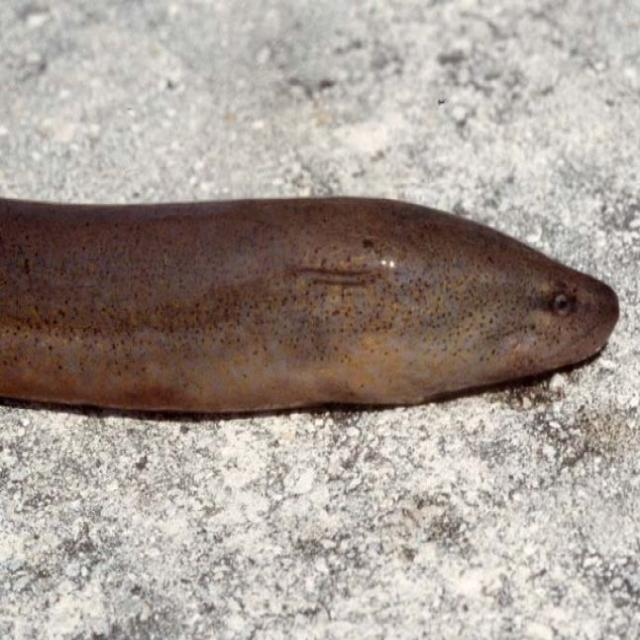Freshwater-Eel: (0, 126, 640, 448)
